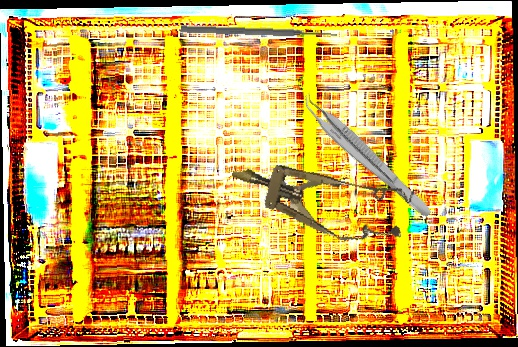Pusher: (180, 24, 338, 40)
Speculum: (223, 140, 415, 256)
Tissue Forceps: (295, 89, 440, 221)
